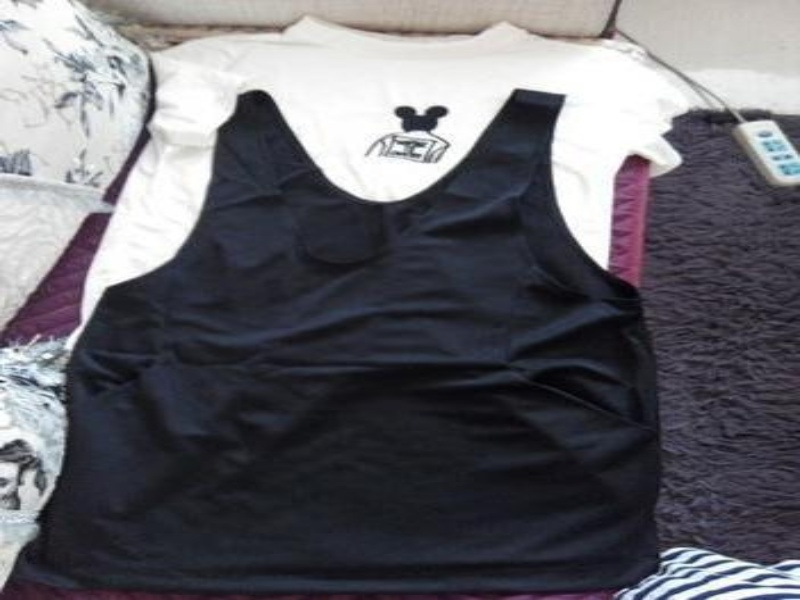short_sleeved_shirt: (57, 13, 693, 363)
vest_dress: (0, 87, 666, 599)
